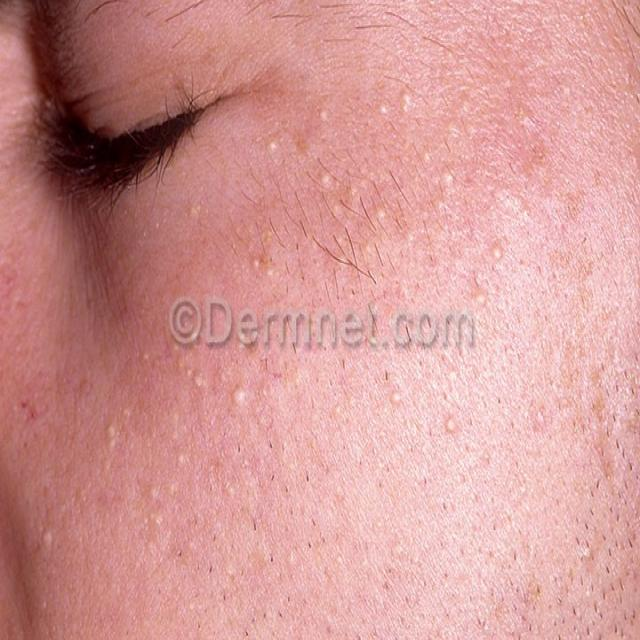acne: (251, 126, 289, 175), (226, 388, 260, 422), (436, 164, 464, 202), (394, 84, 420, 124), (312, 155, 336, 193), (186, 367, 212, 400)
